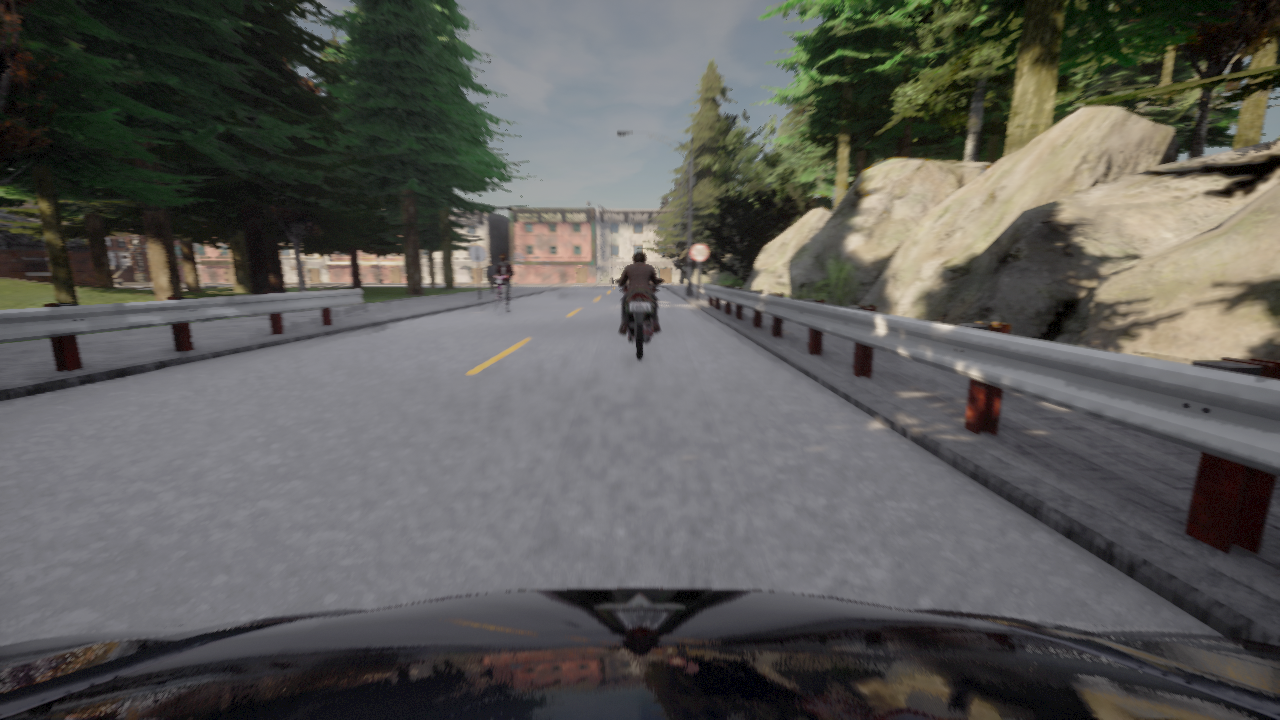cyclist: (0, 588, 1279, 719), (615, 279, 663, 360), (494, 276, 512, 315), (512, 277, 517, 285)
pedestrian: (486, 260, 495, 292)
